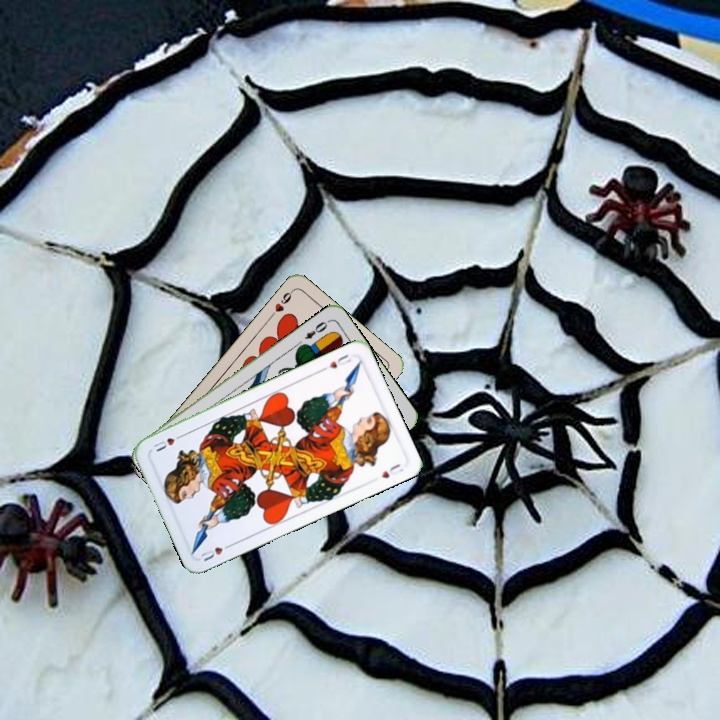EO: (301, 316, 332, 342)
H9: (266, 286, 296, 320)
HU: (197, 540, 235, 564), (318, 350, 354, 373)
